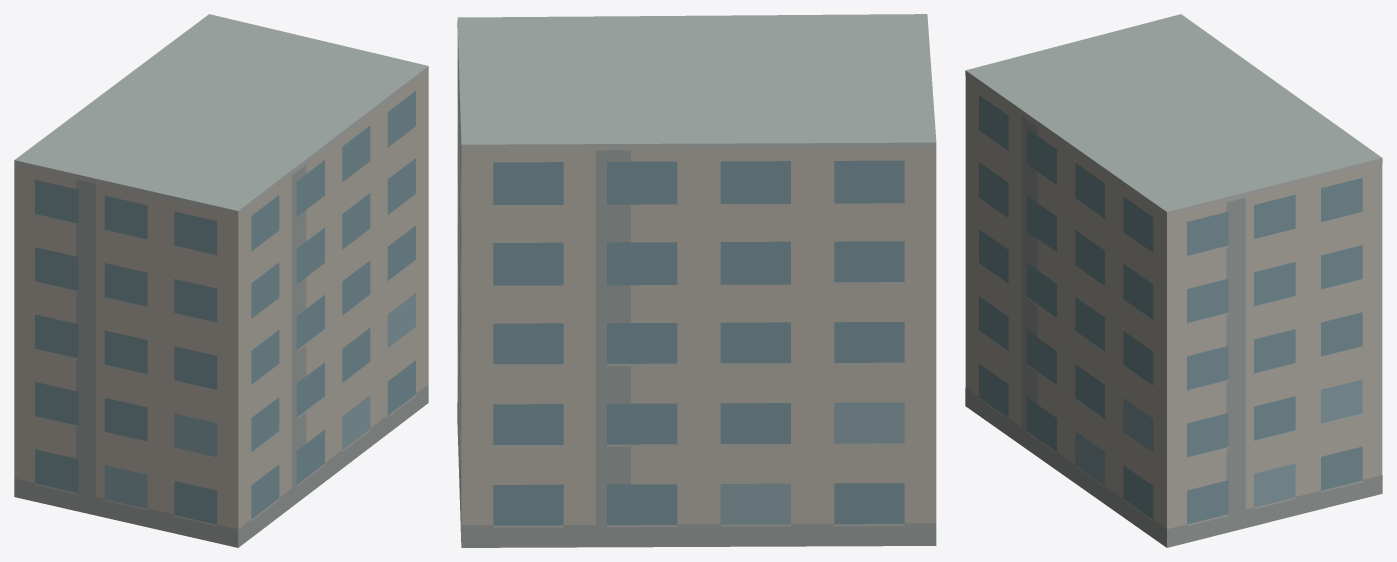
The model's file is survey-upis-32766592.glb.
The picture shows the model from 3 angles, left to right: view 1: azimuth 30°, elevation 25°; view 2: azimuth 150°, elevation 25°; view 3: azimuth 270°, elevation 25°; orthographic projection. The views are drawn at different scales.
Visible parts, largest first — view 1: survey-upis-32766592.tmp; view 2: survey-upis-32766592.tmp; view 3: survey-upis-32766592.tmp.
Boxes of the visible parts, x1,y1,x2,y2 form: survey-upis-32766592.tmp: (14, 14, 428, 547); survey-upis-32766592.tmp: (457, 14, 936, 547); survey-upis-32766592.tmp: (965, 14, 1382, 547).
Size of the model in its own units: 19.3 by 15.25 by 17.17.
